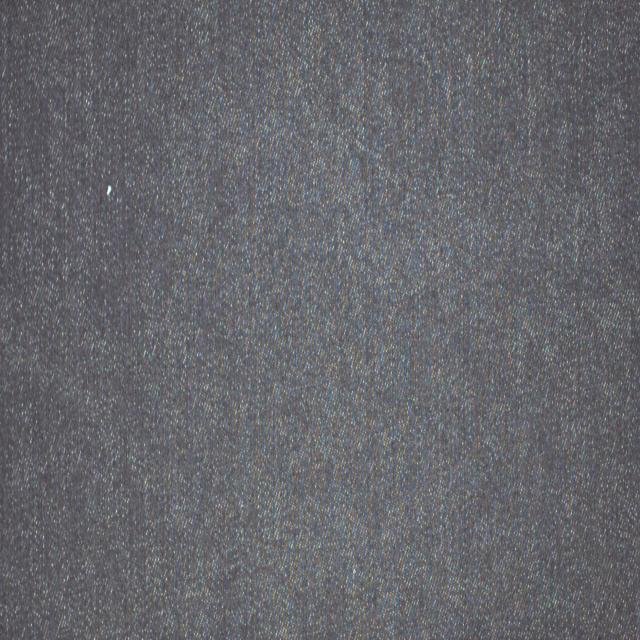Knot: (106, 185, 110, 196)
